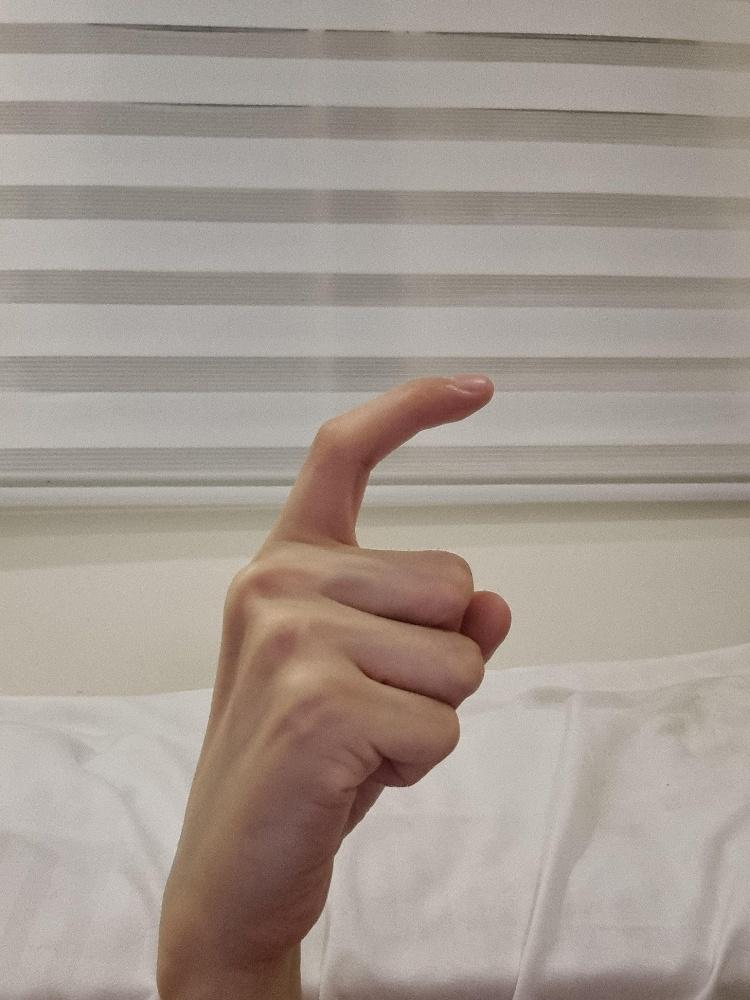x: (164, 366, 517, 957)
